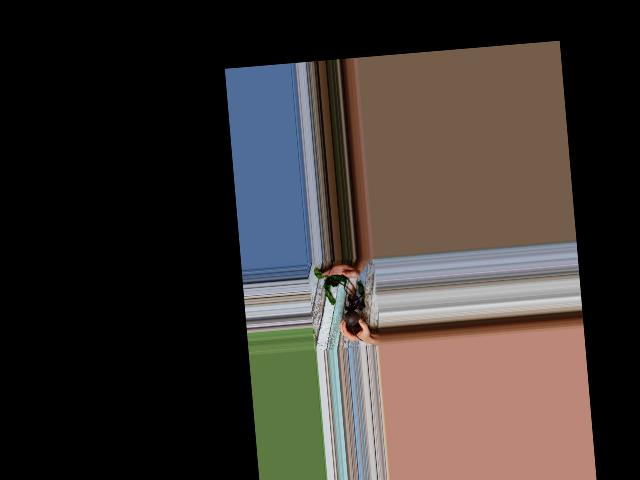beet: (313, 264, 367, 345)
